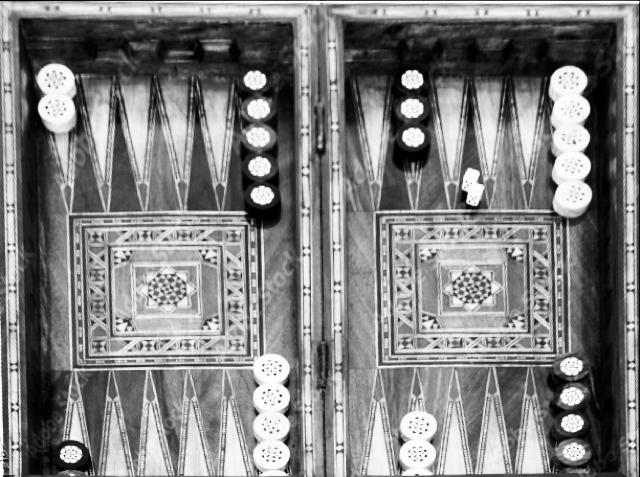bar: (295, 49, 345, 468)
board: (25, 42, 627, 477)
dark_p: (393, 118, 433, 163), (549, 350, 595, 387), (49, 435, 92, 471), (393, 89, 433, 127), (242, 181, 283, 218), (549, 380, 593, 414), (551, 406, 594, 439), (237, 63, 275, 100), (552, 436, 596, 467), (238, 122, 280, 154), (240, 151, 281, 182), (393, 64, 431, 97), (241, 93, 277, 126), (553, 465, 599, 477), (47, 467, 97, 477)
dice: (461, 165, 481, 192), (465, 183, 486, 208)
light_p: (553, 177, 597, 219), (38, 93, 77, 134), (35, 62, 77, 98), (547, 63, 589, 99), (553, 151, 597, 185), (551, 123, 593, 158), (251, 351, 293, 386), (251, 383, 294, 417), (551, 94, 591, 129), (253, 437, 293, 471), (252, 411, 293, 443), (399, 410, 439, 441), (398, 441, 437, 469), (397, 467, 437, 477), (253, 471, 293, 477)
